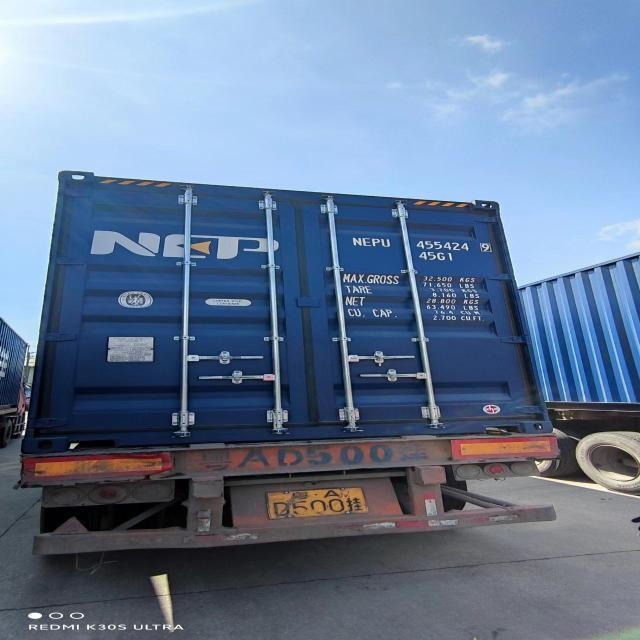ISO: (417, 254, 459, 268)
container_number: (346, 234, 496, 254)
